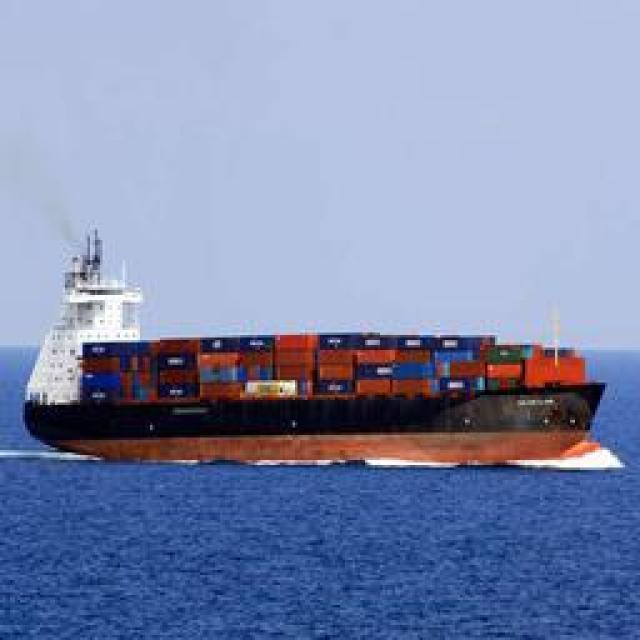CIV_Ship: (15, 271, 610, 461)
